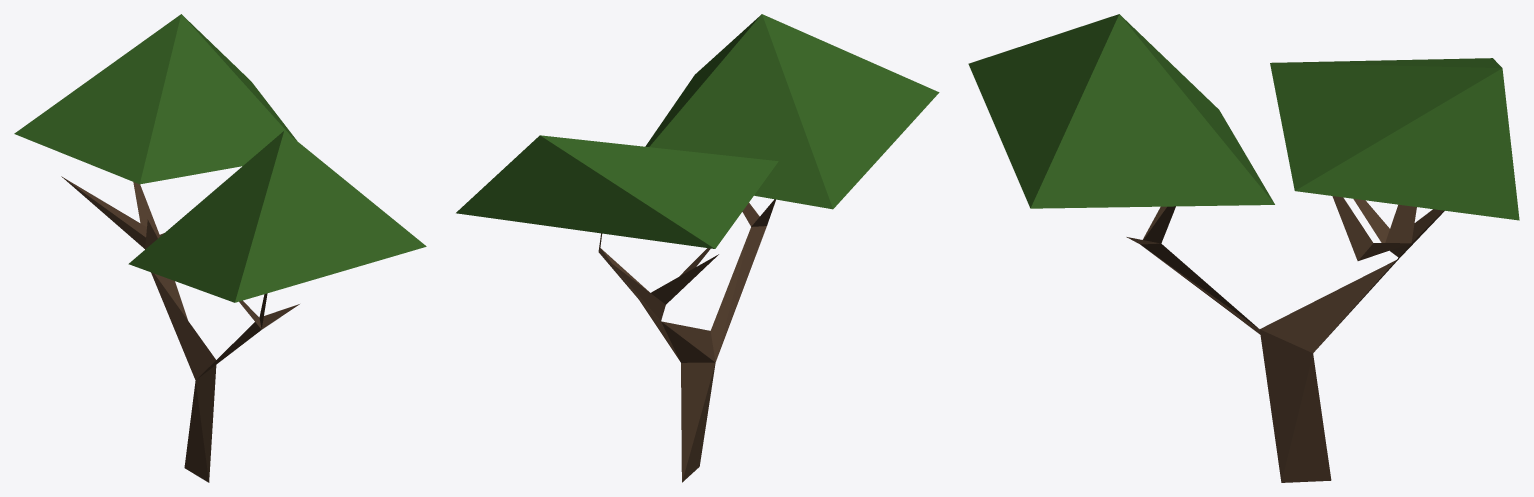
File: tree_d_lod2.glb
3 renders of one model, left to right at view 1: azimuth 30°, elevation 25°; view 2: azimuth 150°, elevation 25°; view 3: azimuth 270°, elevation 25°, orthographic. The views are drawn at different scales.
Parts seen in each view (by area): view 1: tree_d_lod2; view 2: tree_d_lod2; view 3: tree_d_lod2.
Boxes of the visible parts, bbox=[...] form: tree_d_lod2: bbox=[14, 14, 426, 482]; tree_d_lod2: bbox=[456, 14, 939, 482]; tree_d_lod2: bbox=[968, 14, 1519, 482].
Size of the model in its own units: 1.57 by 2.4 by 2.53.
